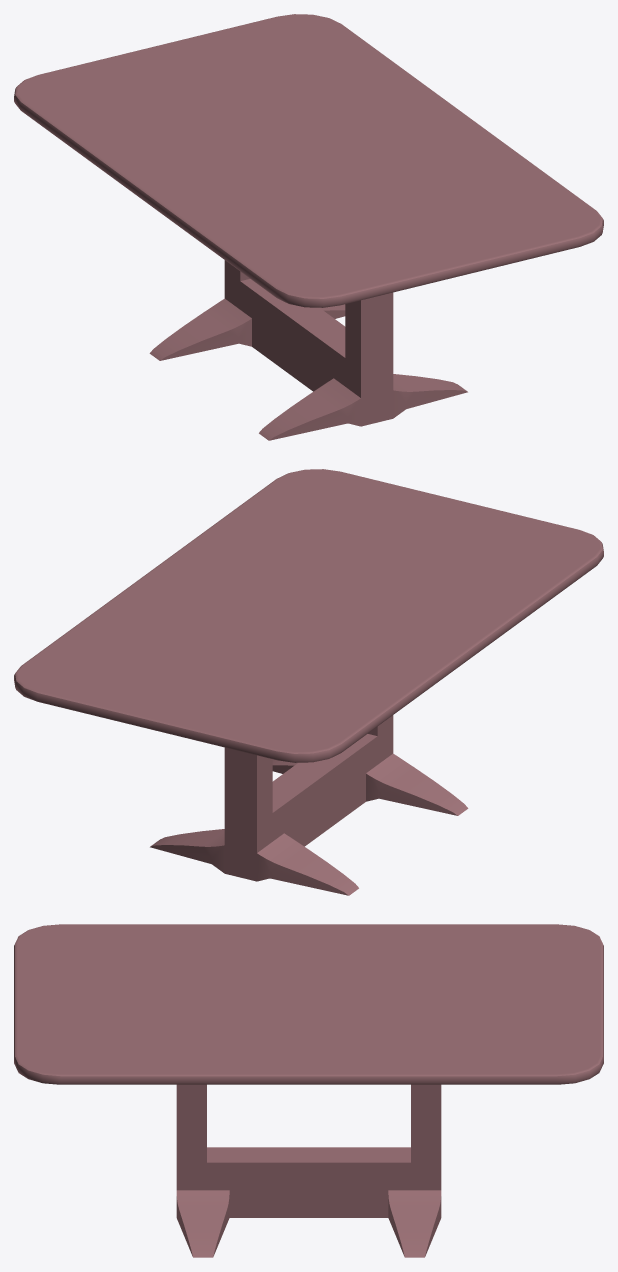
File: Table.001.fbx
The picture shows the model from 3 angles, top to bottom: view 1: azimuth 30°, elevation 25°; view 2: azimuth 150°, elevation 25°; view 3: azimuth 270°, elevation 25°; orthographic projection. The views are drawn at different scales.
Parts seen in each view (by area): view 1: Table.001; view 2: Table.001; view 3: Table.001.
Boxes of the visible parts, x1,y1,x2,y2 form: Table.001: (14, 14, 603, 440); Table.001: (14, 469, 603, 895); Table.001: (14, 924, 603, 1257).
Size of the model in its own units: 200 by 129 by 326.
